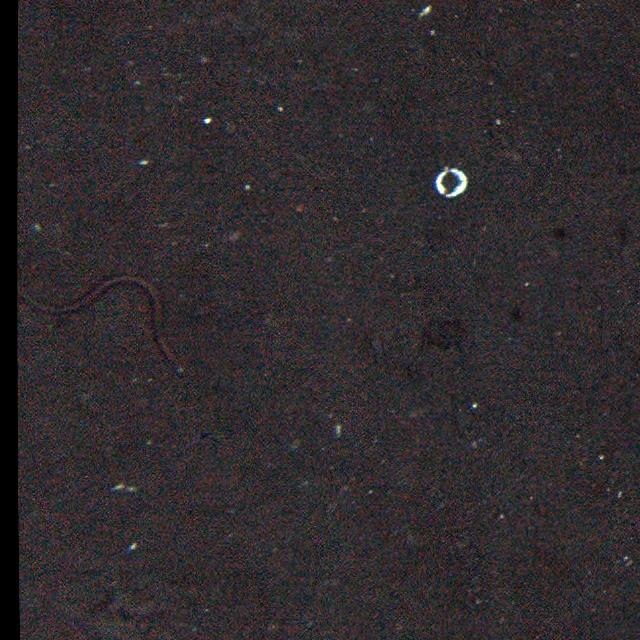eel: (16, 274, 187, 382)
